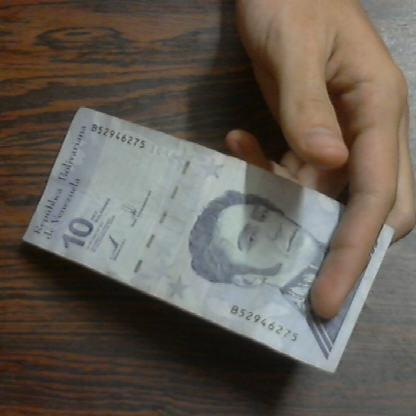ten-front-vef: (23, 108, 396, 373)
